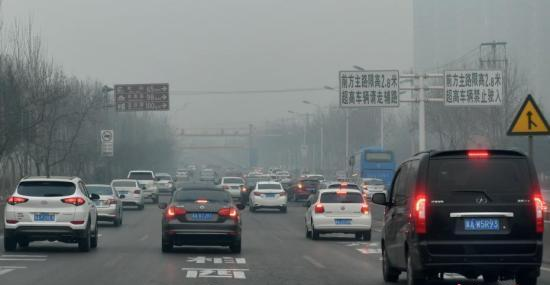bus: (349, 145, 397, 199)
car: (374, 148, 547, 285), (4, 175, 101, 253), (158, 183, 245, 258), (305, 188, 372, 242), (73, 183, 126, 227), (318, 181, 367, 217), (249, 181, 288, 214), (124, 170, 160, 204), (239, 175, 276, 207), (109, 179, 147, 210), (284, 179, 321, 202), (304, 182, 330, 213), (217, 176, 248, 201), (360, 178, 388, 202), (300, 174, 328, 195), (151, 173, 177, 195), (246, 177, 269, 196), (247, 171, 264, 187), (200, 168, 216, 181), (174, 168, 189, 181), (277, 175, 292, 187), (275, 171, 291, 182), (270, 168, 284, 180), (334, 171, 347, 181), (266, 168, 277, 177), (186, 164, 196, 173)
